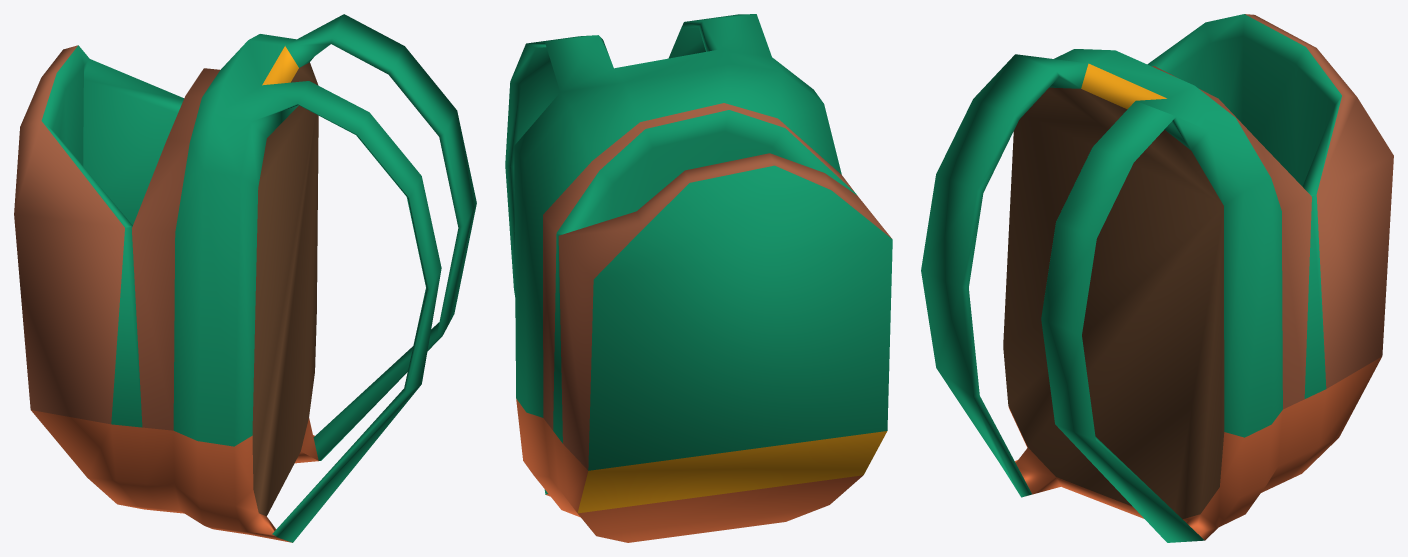
File: bagChestOpened.obj
3 views of the same model, side by side, from view 1: azimuth 30°, elevation 25°; view 2: azimuth 150°, elevation 25°; view 3: azimuth 270°, elevation 25° (orthographic). The views are drawn at different scales.
Parts seen in each view (by area): view 1: bagChestOpen_Cube_Cube.001; view 2: bagChestOpen_Cube_Cube.001; view 3: bagChestOpen_Cube_Cube.001.
Boxes of the visible parts, left/top/right/bottom form: bagChestOpen_Cube_Cube.001: left=14, top=14, right=476, bottom=542; bagChestOpen_Cube_Cube.001: left=505, top=14, right=892, bottom=542; bagChestOpen_Cube_Cube.001: left=921, top=14, right=1393, bottom=542.
Bounding box in the file's own units: 22.39 × 22.46 × 21.65.
1 material, 1 textured.
